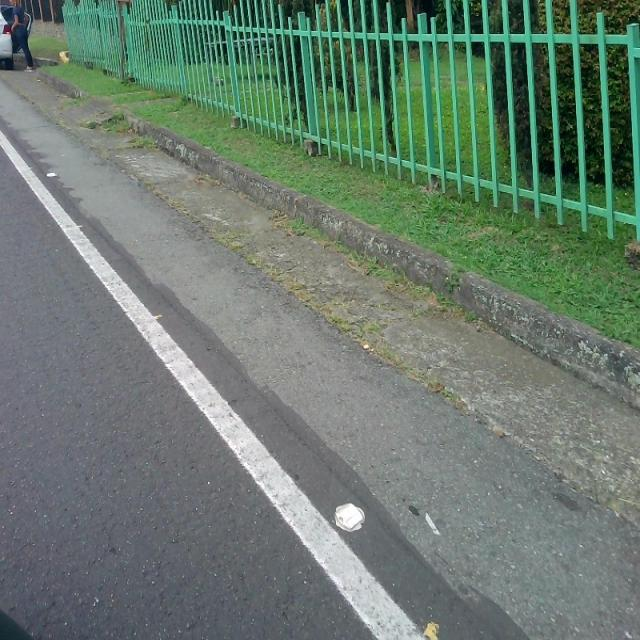DITCH: (1, 63, 638, 639), (2, 71, 638, 639), (1, 72, 638, 638)
